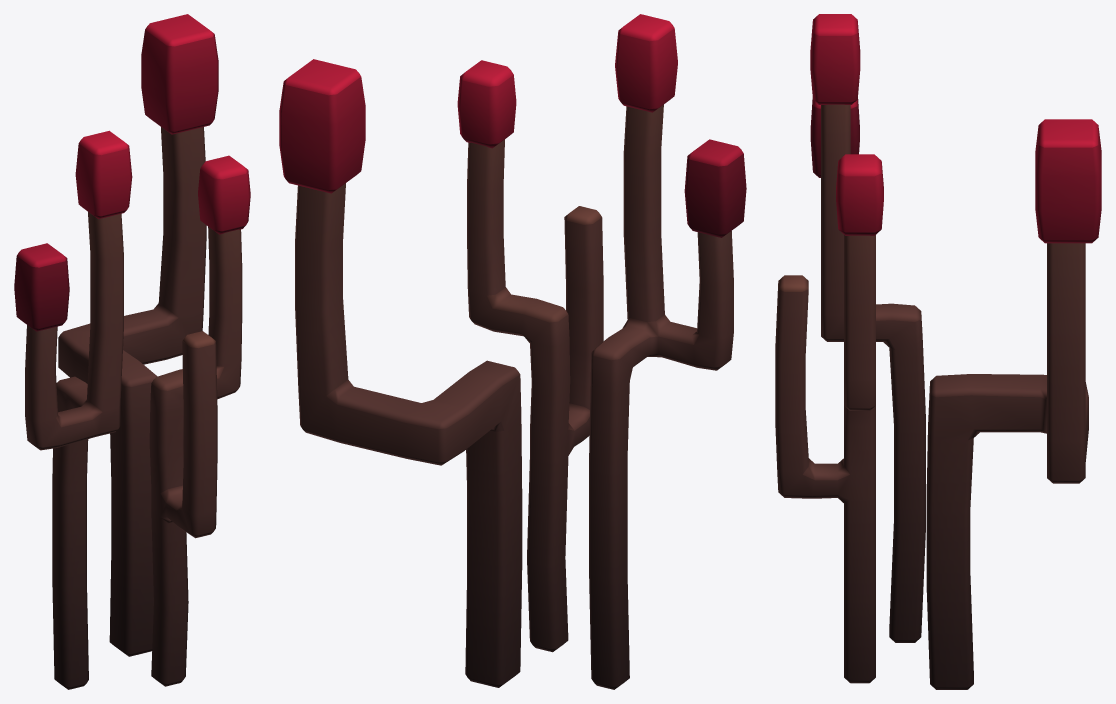
File: shrub_03.fbx
3 renders of one model, left to right at view 1: azimuth 30°, elevation 25°; view 2: azimuth 150°, elevation 25°; view 3: azimuth 270°, elevation 25°, orthographic. The views are drawn at different scales.
Parts seen in each view (by area): view 1: shrub_03; view 2: shrub_03; view 3: shrub_03.
Boxes of the visible parts, x1=… form: shrub_03: x1=14, y1=14, x2=250, y2=689; shrub_03: x1=279, y1=14, x2=746, y2=689; shrub_03: x1=775, y1=14, x2=1101, y2=689.
Bounding box in the file's own units: 148 × 276 × 132.
